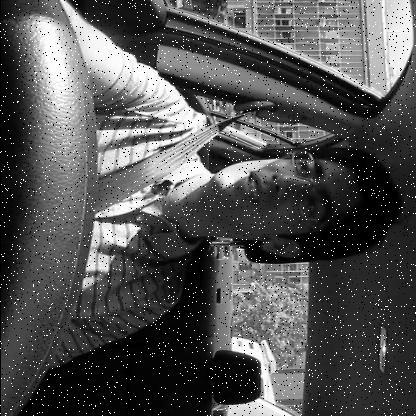seatbelt: (0, 82, 413, 278)
